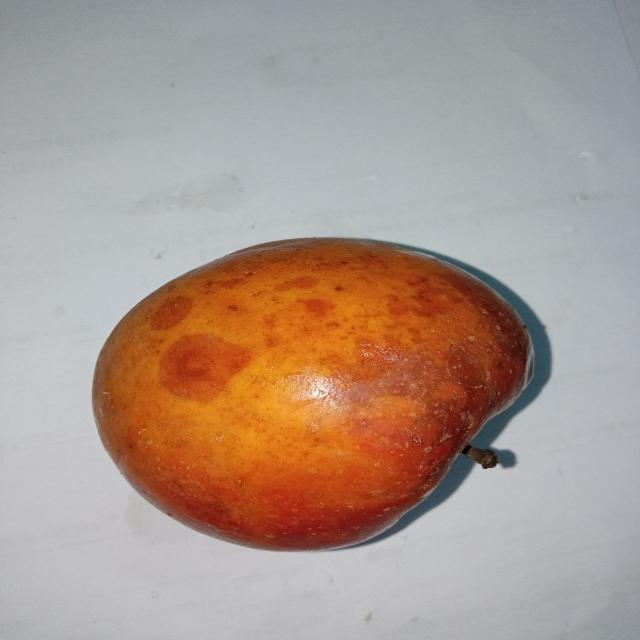rotten_apple: (94, 235, 538, 553)
